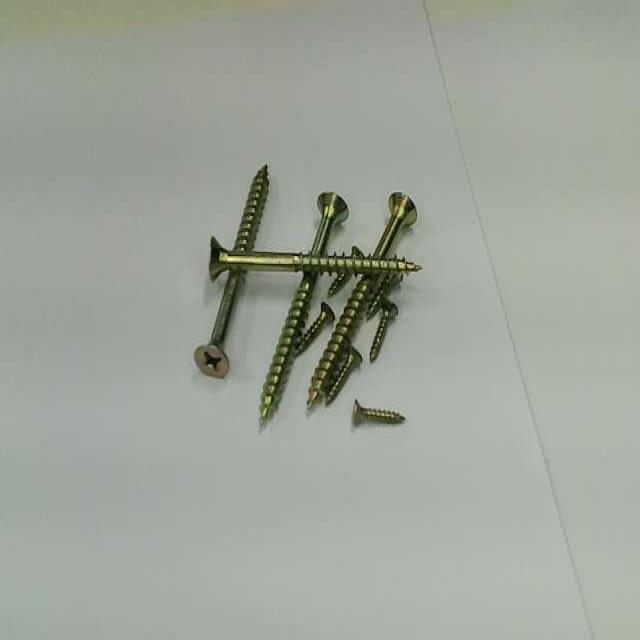Parafuso: (260, 272, 317, 423), (211, 239, 420, 279), (308, 276, 372, 405), (194, 271, 244, 377), (236, 164, 268, 251), (374, 192, 416, 257), (312, 192, 347, 255), (326, 347, 361, 403), (296, 303, 334, 353), (370, 299, 398, 361), (367, 275, 402, 319), (352, 401, 404, 424), (328, 273, 351, 296), (352, 245, 363, 256)
